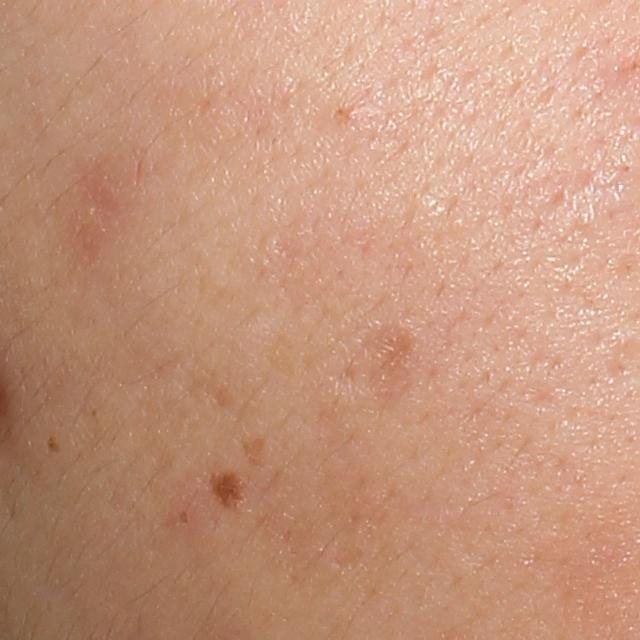atrophic_scar: (349, 323, 424, 404)
melasma: (206, 468, 252, 515)
